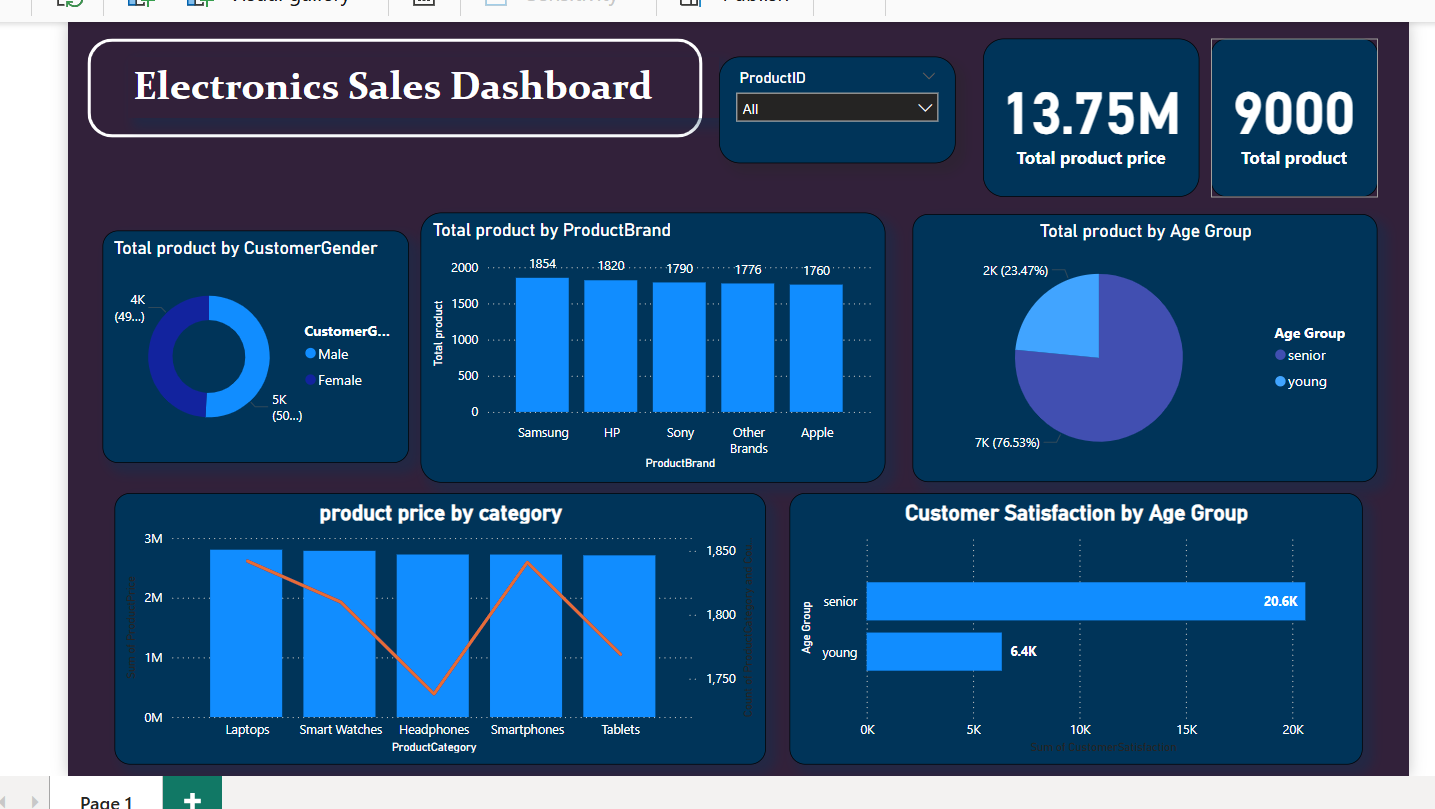

The page's visual inventory and layout, read from the dashboard file:
{"tool":"powerbi","page":{"name":"Page 1","canvas":[1280,720],"ordinal":0},"visuals":[{"type":"columnChart","fields":{"Category":["consumer_electronics_sales_data.ProductBrand"],"Y":["consumer_electronics_sales_data.Total product"]},"box":[337.2,181.3,443.8,257.7],"z":0},{"type":"pieChart","fields":{"Category":["consumer_electronics_sales_data.Age Group"],"Y":["consumer_electronics_sales_data.Total product"]},"box":[806.4,182.9,443.8,256.1],"z":1000},{"type":"lineClusteredColumnComboChart","title":"product price by category","fields":{"Category":["consumer_electronics_sales_data.ProductCategory"],"Y":["Sum(consumer_electronics_sales_data.ProductPrice)"],"Y2":["CountNonNull(consumer_electronics_sales_data.ProductCategory)","CountNonNull(consumer_electronics_sales_data.ProductID)"]},"box":[44.5,450.1,621.9,259.3],"z":2000},{"type":"barChart","title":" Customer Satisfaction by Age Group","fields":{"Category":["consumer_electronics_sales_data.Age Group"],"Y":["Sum(consumer_electronics_sales_data.CustomerSatisfaction)"]},"box":[688.7,450.1,547.2,259.3],"z":3000},{"type":"donutChart","fields":{"Category":["consumer_electronics_sales_data.CustomerGender"],"Y":["consumer_electronics_sales_data.Total product"]},"box":[33.1,198.5,293,222.1],"z":4000},{"type":"card","fields":{"Values":["consumer_electronics_sales_data.Total product"]},"box":[1091.2,15.9,159.1,151.1],"z":5000},{"type":"card","fields":{"Values":["consumer_electronics_sales_data.Total product price"]},"box":[873.2,15.9,206.8,151.1],"z":6000},{"type":"shape","box":[18.6,15.8,587.3,94.5],"z":7000},{"type":"textbox","box":[57.3,33.4,564.7,58.9],"z":8000},{"type":"slicer","fields":{"Values":["consumer_electronics_sales_data.ProductID"]},"box":[621.9,33.4,225.9,101.8],"z":9000}]}

Visuals, with their boxes on the page's 1280x720 design canvas (x1, y1, x2, y2). These are canvas units, not pixel positions in the 1435x809 screenshot, which may show the page scaled, cropped or inside an application window:
columnChart - consumer_electronics_sales_data.ProductBrand x consumer_electronics_sales_data.Total product: box=[337, 181, 781, 439]
pieChart - consumer_electronics_sales_data.Age Group x consumer_electronics_sales_data.Total product: box=[806, 183, 1250, 439]
"product price by category" lineClusteredColumnComboChart: box=[44, 450, 666, 709]
" Customer Satisfaction by Age Group" barChart: box=[689, 450, 1236, 709]
donutChart - consumer_electronics_sales_data.CustomerGender x consumer_electronics_sales_data.Total product: box=[33, 198, 326, 421]
card - consumer_electronics_sales_data.Total product: box=[1091, 16, 1250, 167]
card - consumer_electronics_sales_data.Total product price: box=[873, 16, 1080, 167]
shape: box=[19, 16, 606, 110]
textbox: box=[57, 33, 622, 92]
slicer - consumer_electronics_sales_data.ProductID: box=[622, 33, 848, 135]
